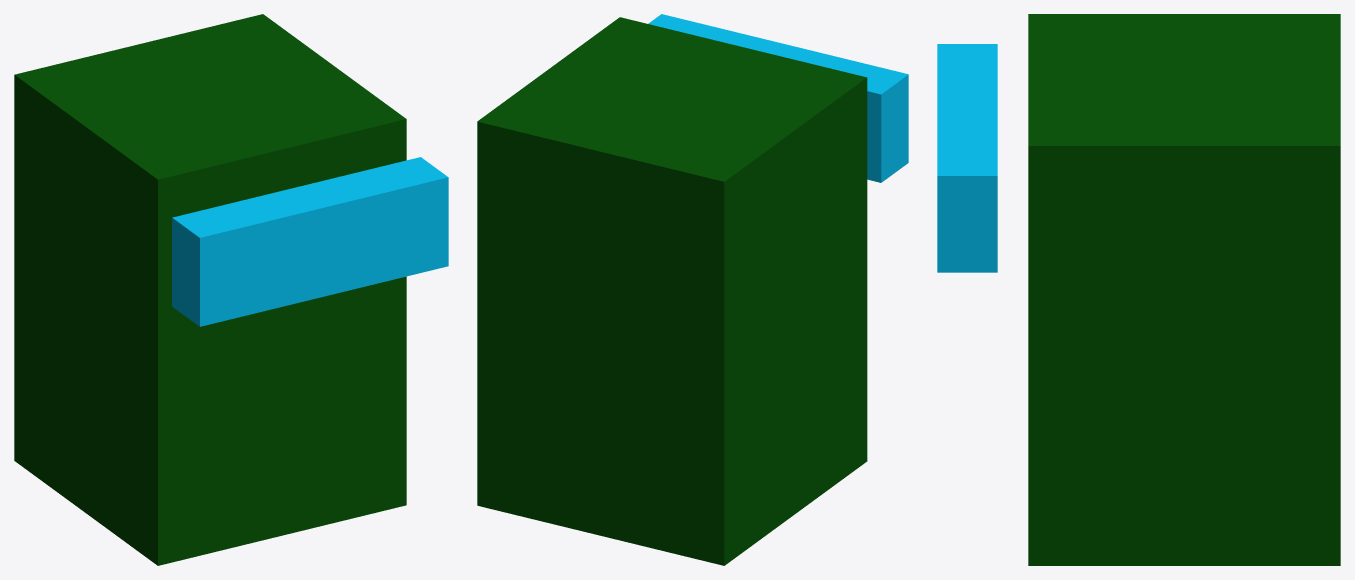
File: Player.obj
3 renders of one model, left to right at view 1: azimuth 30°, elevation 25°; view 2: azimuth 150°, elevation 25°; view 3: azimuth 270°, elevation 25°, orthographic. The views are drawn at different scales.
Parts seen in each view (by area): view 1: Cube; view 2: Cube; view 3: Cube.
Part boxes in pixels (x1,y1,x2,y2): Cube: [14, 14, 448, 565]; Cube: [477, 14, 908, 565]; Cube: [937, 14, 1340, 565].
Bounding box in the file's own units: 2 × 2.97 × 2.58.
